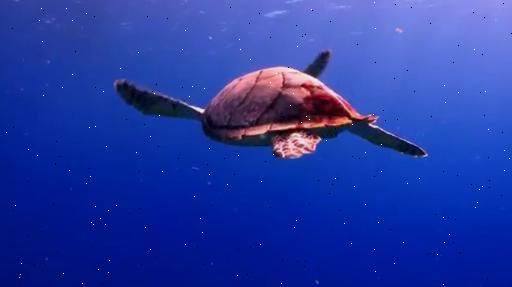Fish: (115, 51, 426, 158)
